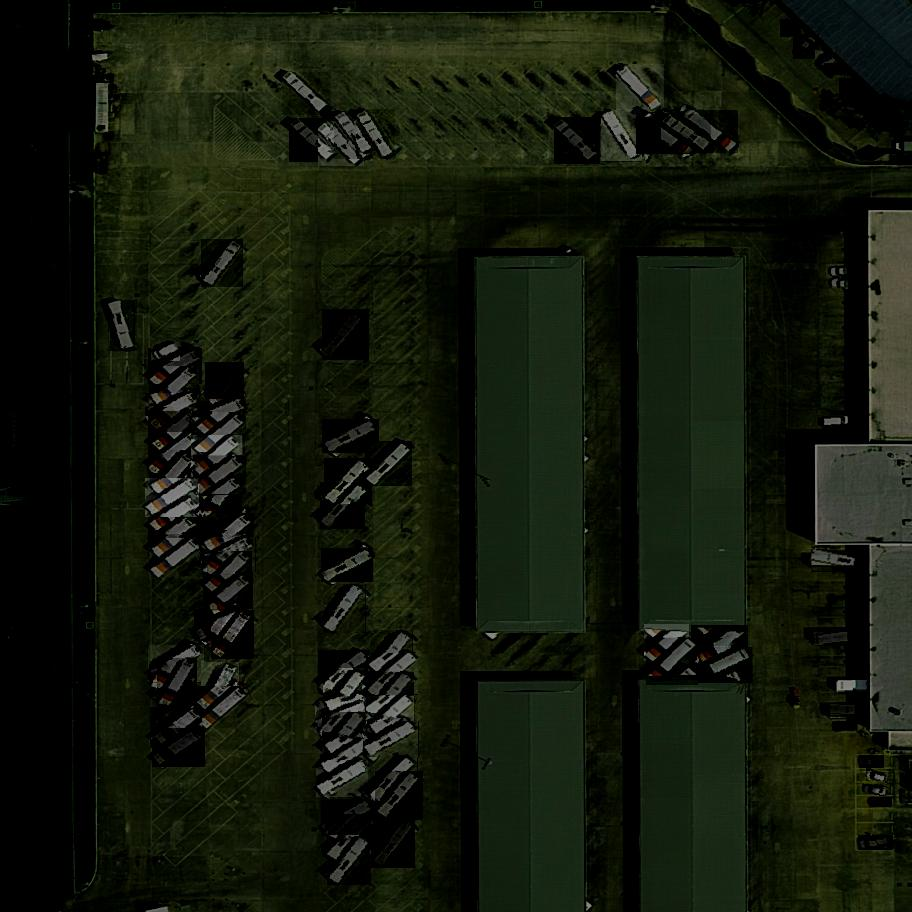large-vehicle: (691, 625, 748, 671), (323, 308, 370, 363), (647, 637, 698, 687), (150, 450, 199, 502), (324, 456, 373, 507), (375, 770, 423, 822), (368, 755, 418, 804), (192, 434, 243, 482), (616, 63, 664, 114), (367, 671, 414, 723), (201, 512, 254, 558), (685, 109, 739, 154), (198, 685, 250, 731), (194, 412, 246, 458), (319, 650, 372, 695), (324, 668, 369, 721), (198, 470, 242, 524), (150, 366, 200, 413), (636, 117, 696, 156), (372, 819, 417, 871), (150, 705, 203, 749), (148, 516, 202, 559), (329, 814, 377, 862), (323, 711, 368, 762), (211, 609, 255, 661), (149, 537, 202, 580), (323, 583, 366, 636), (148, 411, 201, 454), (328, 834, 371, 887), (290, 117, 338, 164), (366, 440, 413, 488), (207, 551, 253, 600), (554, 116, 600, 165), (282, 72, 331, 118), (204, 575, 254, 620), (320, 481, 365, 531), (368, 652, 418, 697), (370, 630, 414, 681), (149, 432, 201, 475), (149, 495, 202, 537), (194, 455, 247, 497), (152, 728, 206, 769), (145, 477, 199, 518), (322, 798, 376, 839), (367, 696, 416, 741), (149, 644, 204, 684), (157, 657, 197, 712), (316, 761, 372, 800), (363, 721, 419, 760), (602, 111, 643, 164), (319, 738, 373, 778), (202, 237, 244, 288), (200, 536, 256, 574), (323, 418, 380, 455), (696, 647, 753, 684), (334, 110, 376, 160), (661, 112, 712, 153), (202, 662, 240, 717), (206, 361, 244, 416), (356, 108, 396, 160), (318, 121, 364, 166), (148, 348, 203, 385), (145, 394, 200, 431), (644, 623, 691, 664), (194, 608, 249, 643), (322, 548, 375, 583), (315, 701, 372, 733), (191, 399, 247, 431), (811, 550, 869, 574), (109, 300, 135, 352), (812, 628, 869, 646), (830, 704, 868, 716), (836, 681, 868, 692)
small-vehicle: (793, 34, 819, 61), (151, 342, 181, 363), (839, 77, 863, 99), (859, 836, 894, 851), (849, 85, 871, 108), (831, 277, 861, 293), (815, 50, 836, 72), (865, 768, 892, 785), (781, 19, 802, 40), (858, 95, 882, 112), (822, 417, 851, 431), (862, 782, 889, 797), (831, 719, 857, 733), (859, 755, 884, 769), (824, 63, 847, 77), (832, 266, 861, 277), (869, 797, 892, 806)
